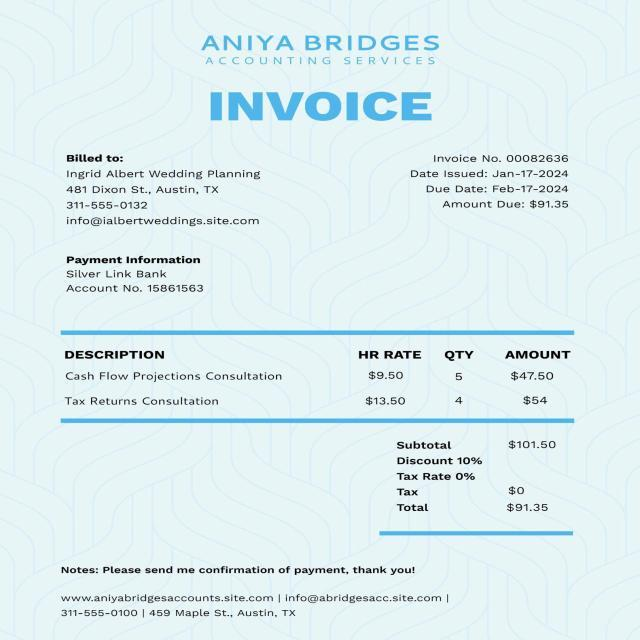ROI: (58, 329, 573, 416), (60, 150, 273, 232), (380, 434, 571, 520), (194, 20, 449, 72), (62, 590, 449, 624), (408, 146, 570, 214), (62, 250, 219, 302), (193, 91, 444, 122), (58, 558, 423, 576)
